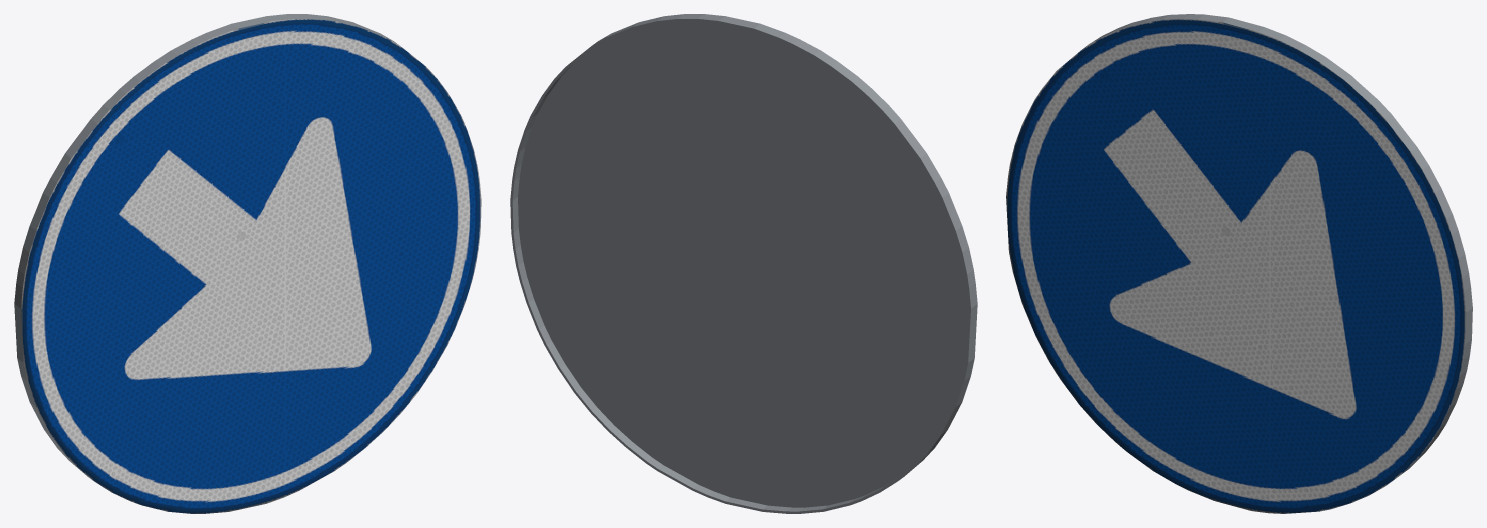
3 renders of one model, left to right at view 1: azimuth 30°, elevation 25°; view 2: azimuth 150°, elevation 25°; view 3: azimuth 330°, elevation 25°, orthographic.
Parts seen in each view (by area): view 1: cat_70d56092dd3e8451; view 2: cat_70d56092dd3e8451; view 3: cat_70d56092dd3e8451.
Boxes of the visible parts, left/top/right/bottom form: cat_70d56092dd3e8451: left=14, top=14, right=481, bottom=513; cat_70d56092dd3e8451: left=510, top=14, right=977, bottom=513; cat_70d56092dd3e8451: left=1006, top=14, right=1472, bottom=513.
Bounding box in the file's own units: 0.6 × 0.015 × 0.6.
2 materials, 1 textured.
